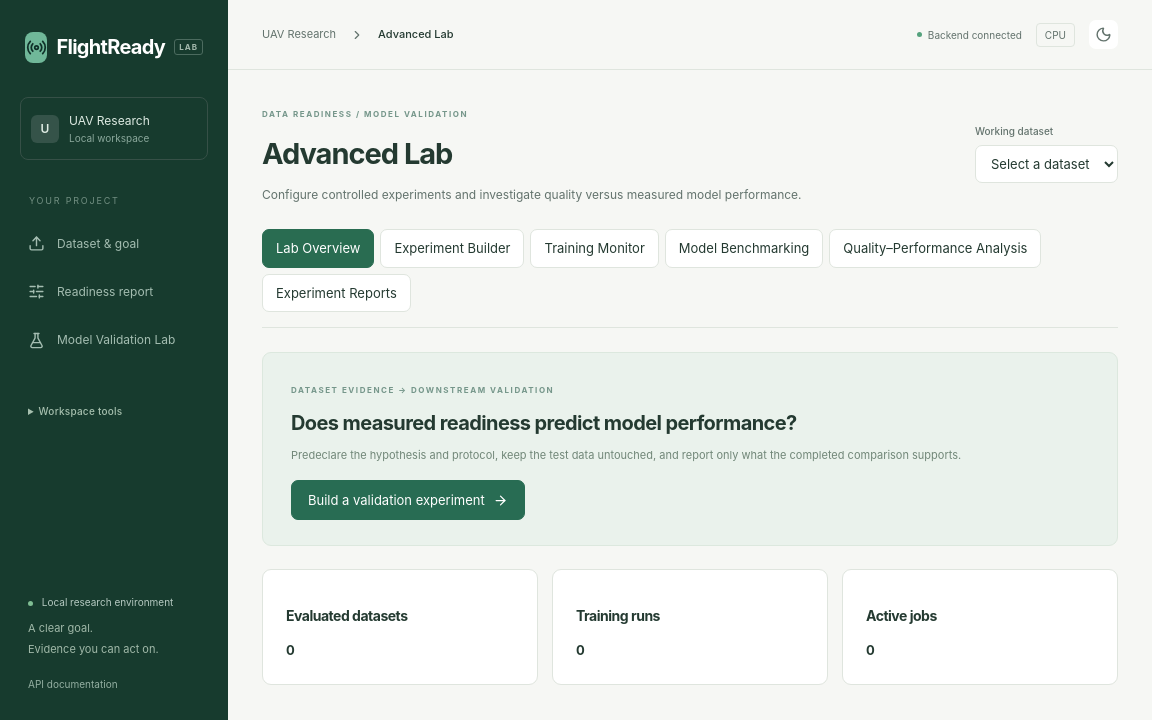
offers the Model Validation Lab as independent navigation with six internal sections
This screenshot has width=1152, height=720.
Expected: the heading "Does measured readiness predict model performance?" is shown, x1=291 y1=410 x2=797 y2=434
Click the button "Experiment Builder" at (452, 248), box x1=380 y1=229 x2=524 y2=268
(page scrolled)
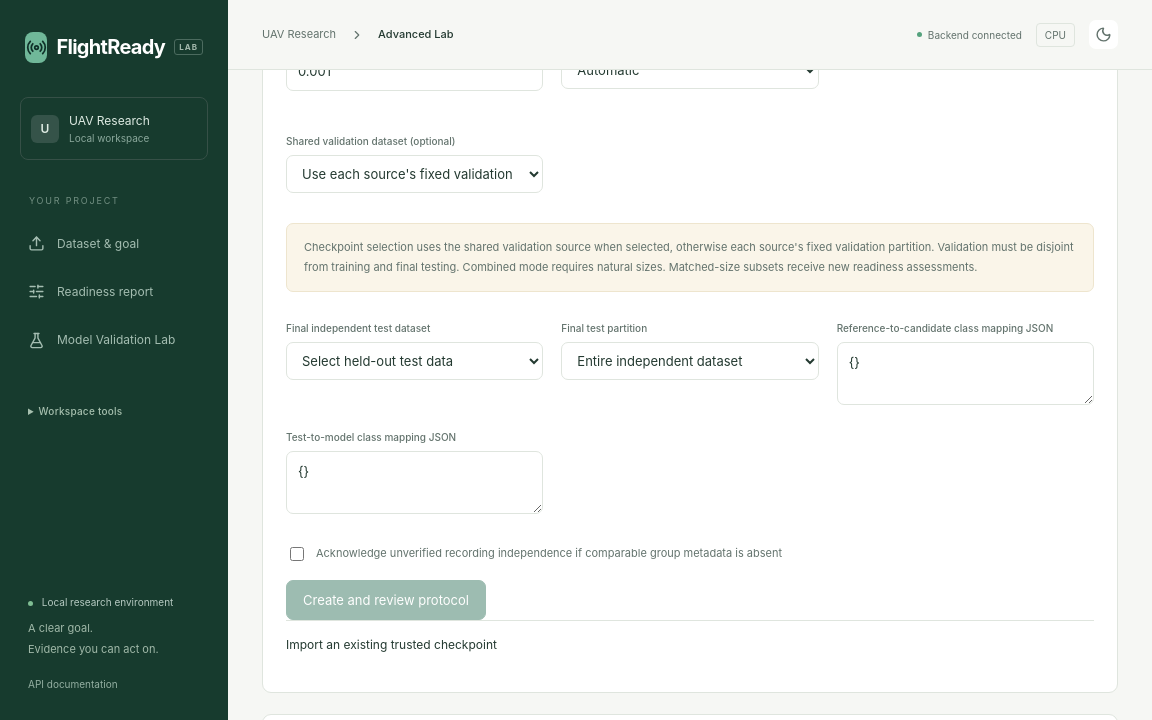
Expected: the dropdown named "Lab independent test dataset" is shown, x1=286 y1=342 x2=543 y2=380
